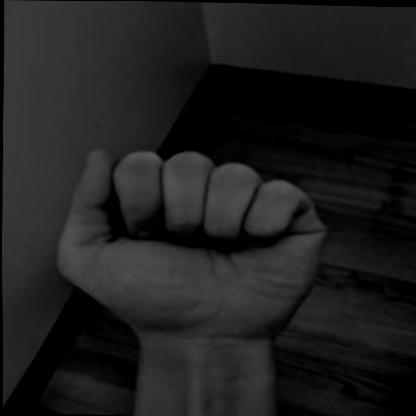A: (44, 126, 343, 360)
